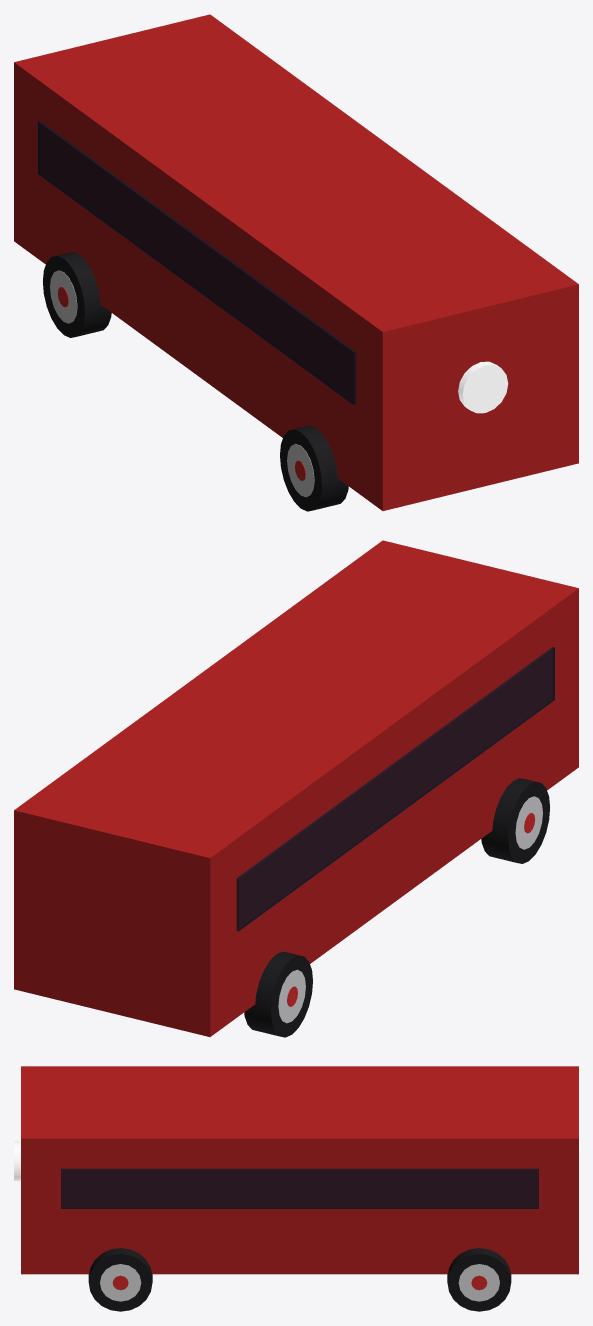
The model's file is train.glb.
3 views of the same model, one above another, from view 1: azimuth 30°, elevation 25°; view 2: azimuth 150°, elevation 25°; view 3: azimuth 270°, elevation 25° (orthographic). The views are drawn at different scales.
Size of the model in its own units: 0.3553 by 0.3263 by 1.
